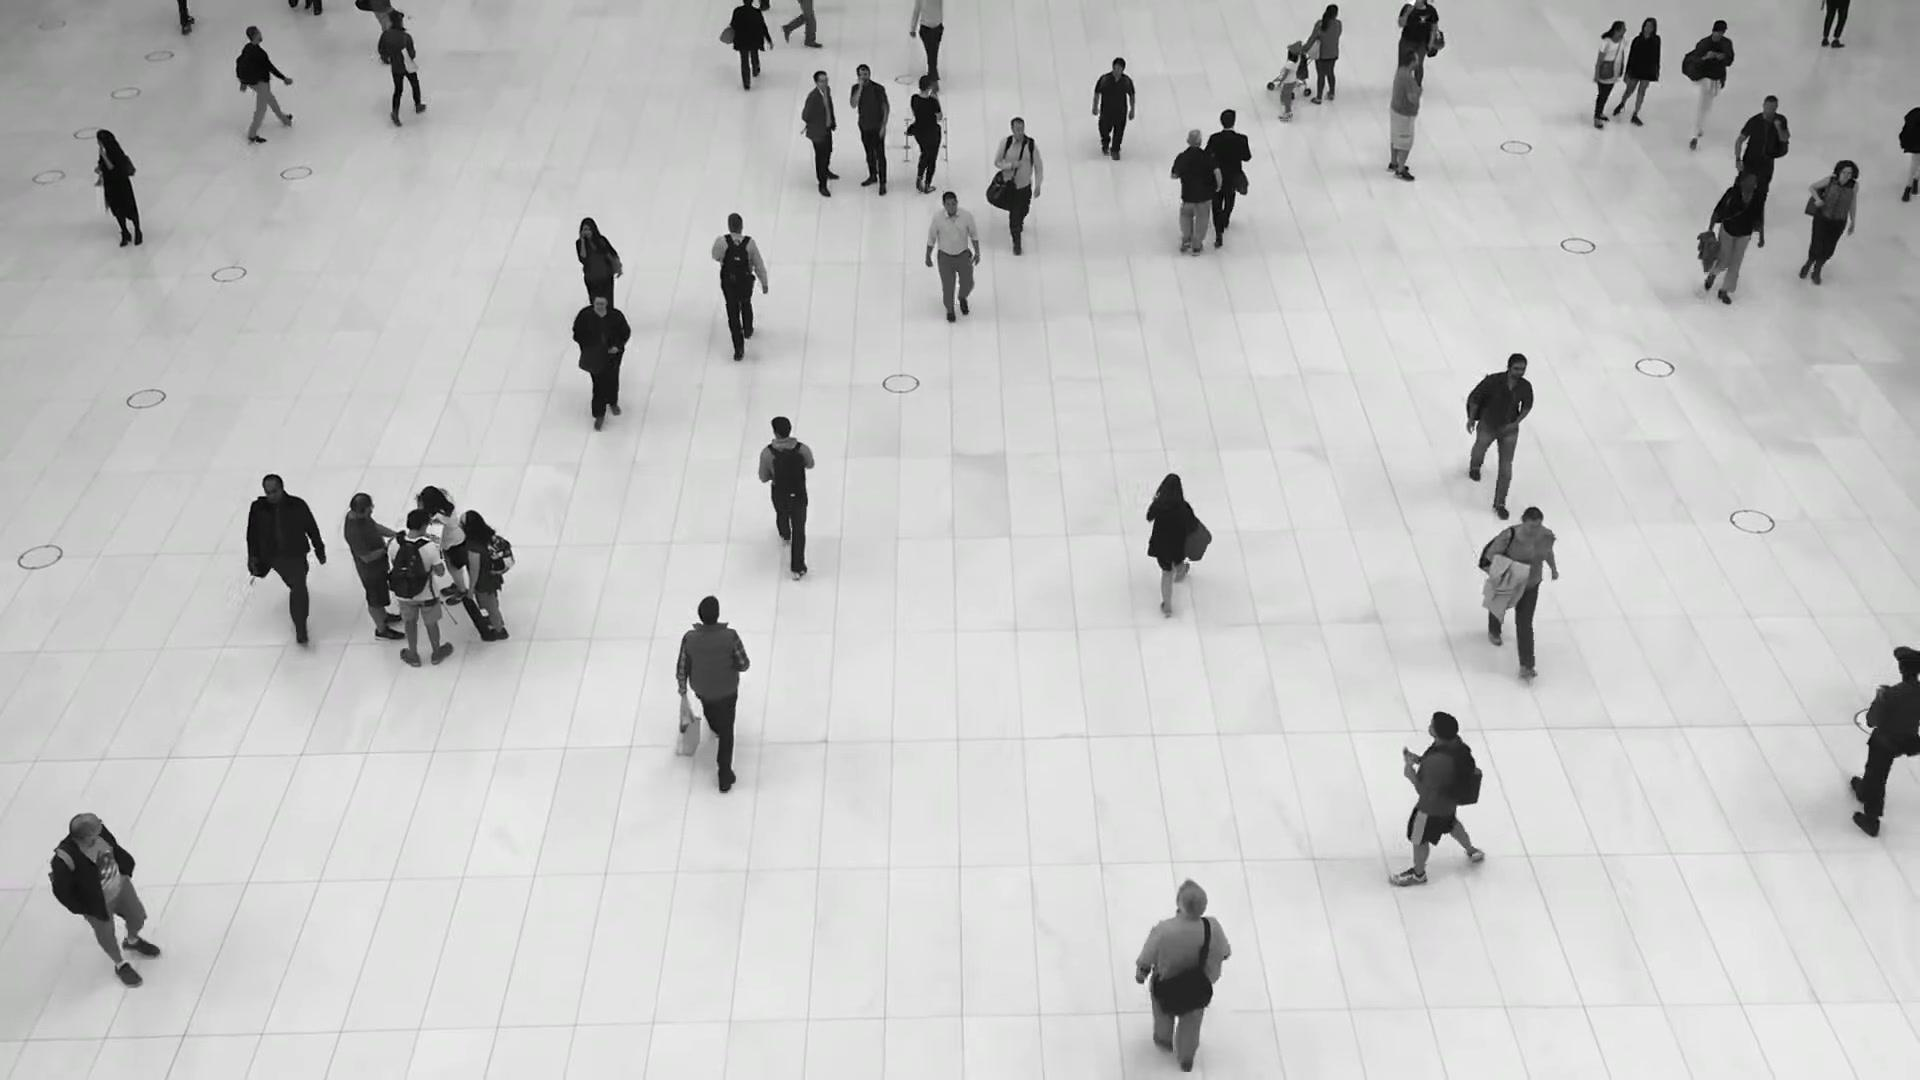person: (47, 811, 162, 988), (1134, 878, 1231, 1071), (1389, 710, 1484, 886), (675, 594, 750, 788), (1841, 643, 1918, 829), (1479, 506, 1560, 678), (246, 473, 324, 644), (1466, 349, 1537, 506), (386, 508, 453, 668), (754, 413, 817, 573), (1145, 470, 1211, 614), (343, 492, 401, 639), (710, 211, 767, 358), (571, 291, 631, 430), (1704, 171, 1765, 307), (925, 191, 982, 326), (1799, 160, 1859, 287), (1681, 18, 1735, 150), (234, 23, 292, 143), (994, 116, 1043, 255), (1203, 108, 1251, 245), (459, 509, 509, 642), (93, 128, 143, 246), (418, 486, 465, 605), (1170, 129, 1214, 255), (377, 11, 426, 124), (1734, 94, 1790, 191), (849, 63, 890, 195), (1614, 16, 1661, 129), (800, 70, 841, 197), (1385, 50, 1422, 181), (1091, 57, 1135, 162), (905, 75, 942, 193), (574, 216, 622, 305), (728, 0, 772, 89), (1305, 3, 1342, 104), (1592, 20, 1626, 128), (909, 0, 945, 80), (1276, 49, 1300, 120)
